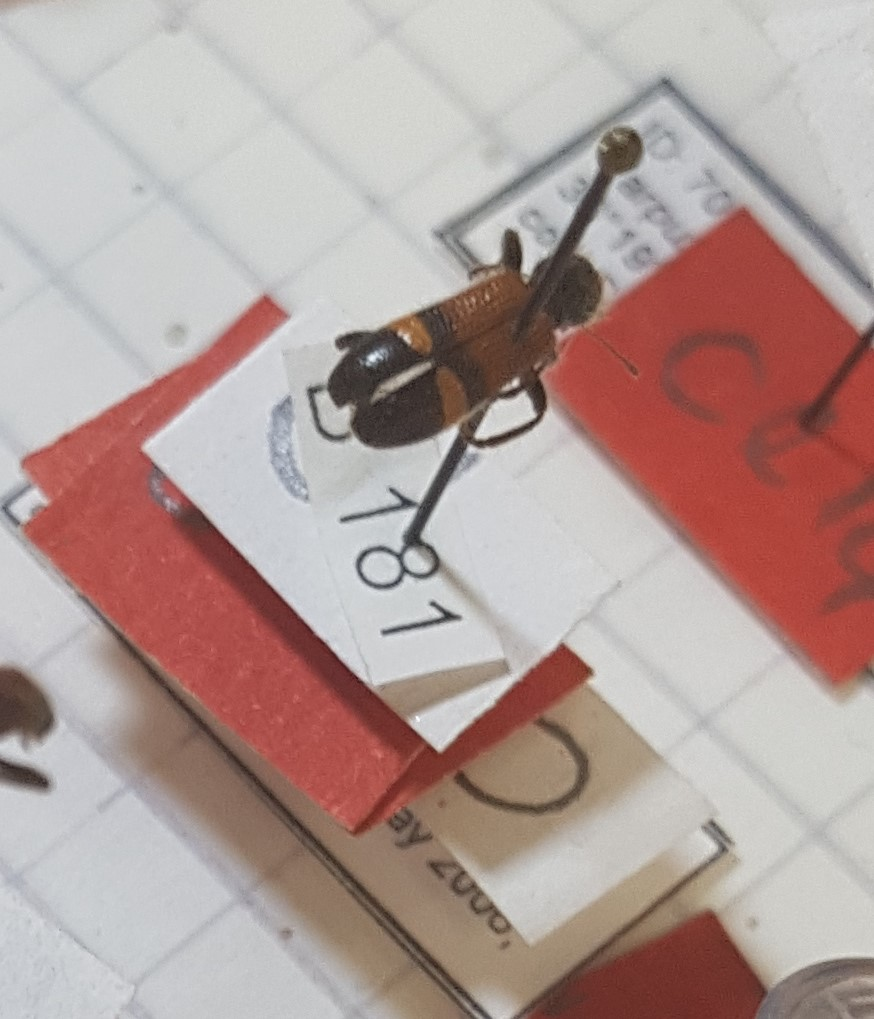opilo_taeniatus: (326, 228, 611, 453)
